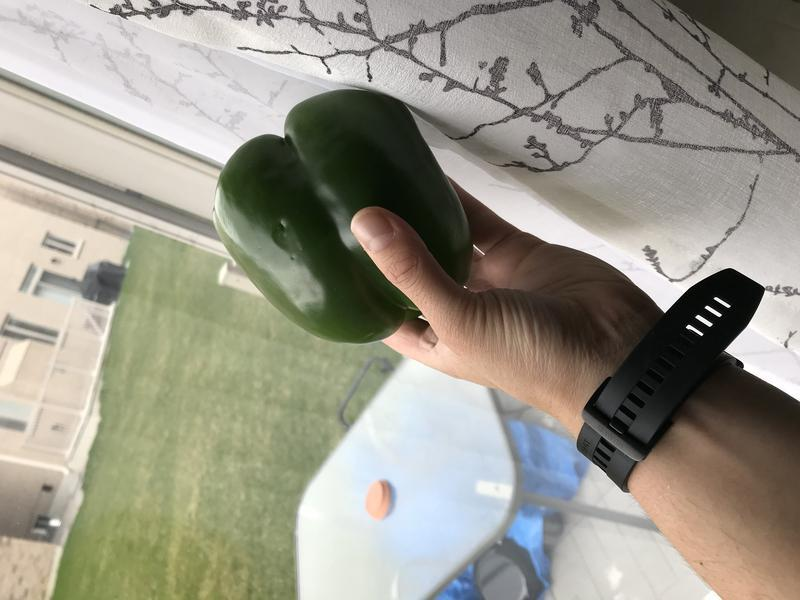green_pepper: (205, 73, 484, 362)
